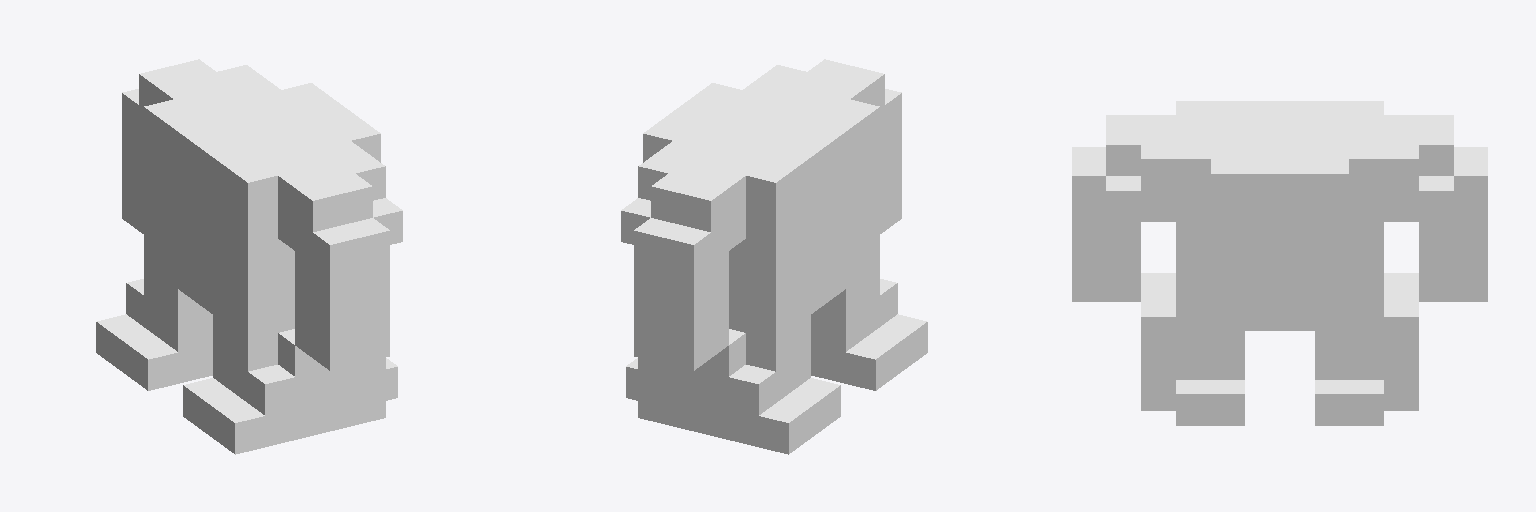
File: DwarfBody.obj
3 views of the same model, side by side, from view 1: azimuth 30°, elevation 25°; view 2: azimuth 150°, elevation 25°; view 3: azimuth 270°, elevation 25° (orthographic).
Visible parts, largest first — view 1: object 1; view 2: object 1; view 3: object 1.
Boxes of the visible parts, x1=… form: object 1: x1=96, y1=59, x2=402, y2=454; object 1: x1=621, y1=59, x2=927, y2=454; object 1: x1=1072, y1=101, x2=1487, y2=425.
Size of the model in its own units: 0.6 by 0.8 by 1.2.